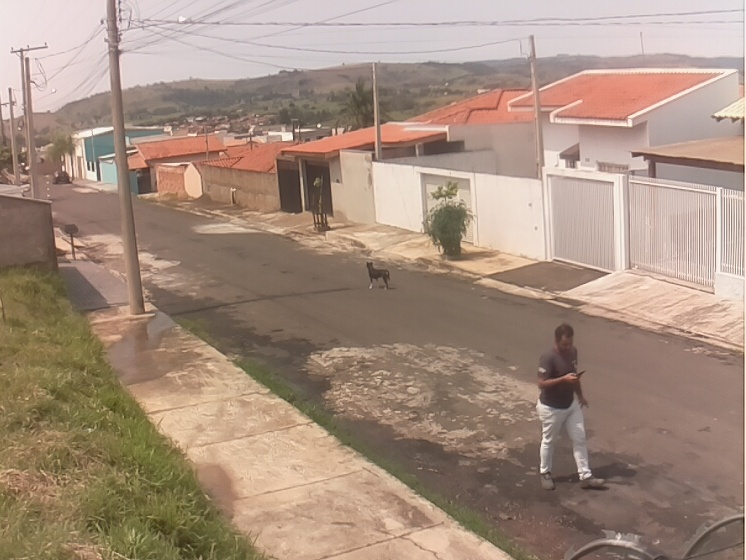person: (534, 323, 607, 493)
